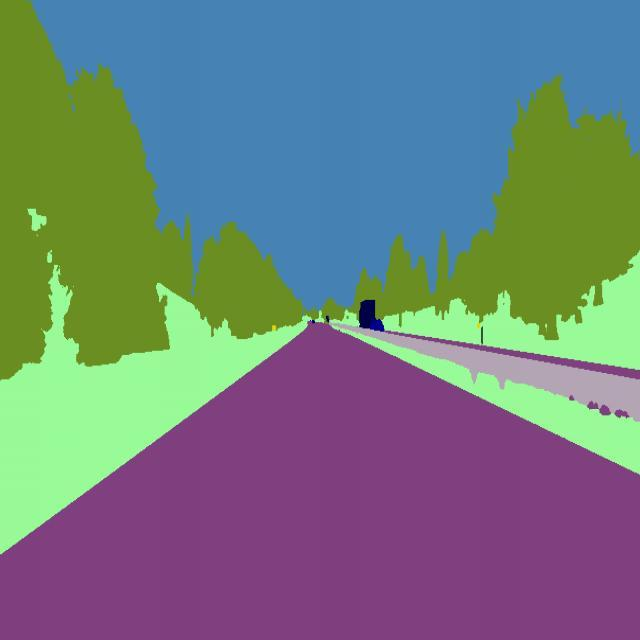safe: (358, 298, 378, 332), (367, 317, 387, 337)
